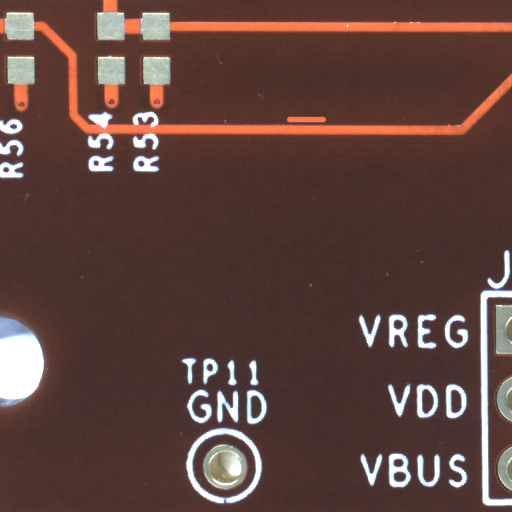Spurious_copper: (304, 119, 349, 128)
